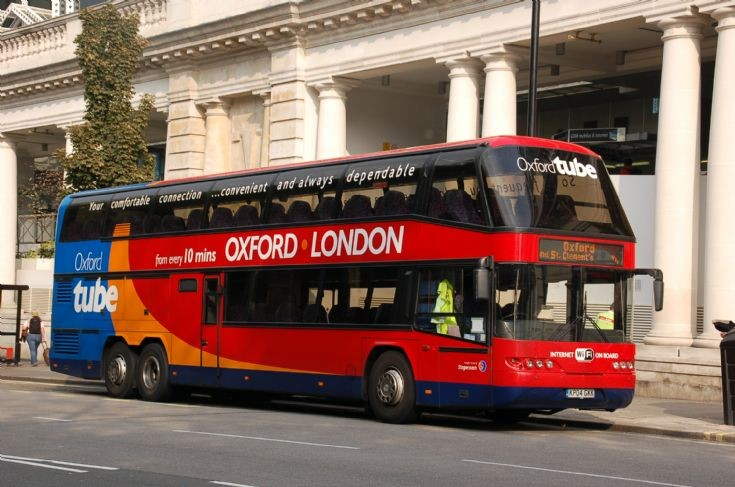bus: (47, 135, 668, 438)
